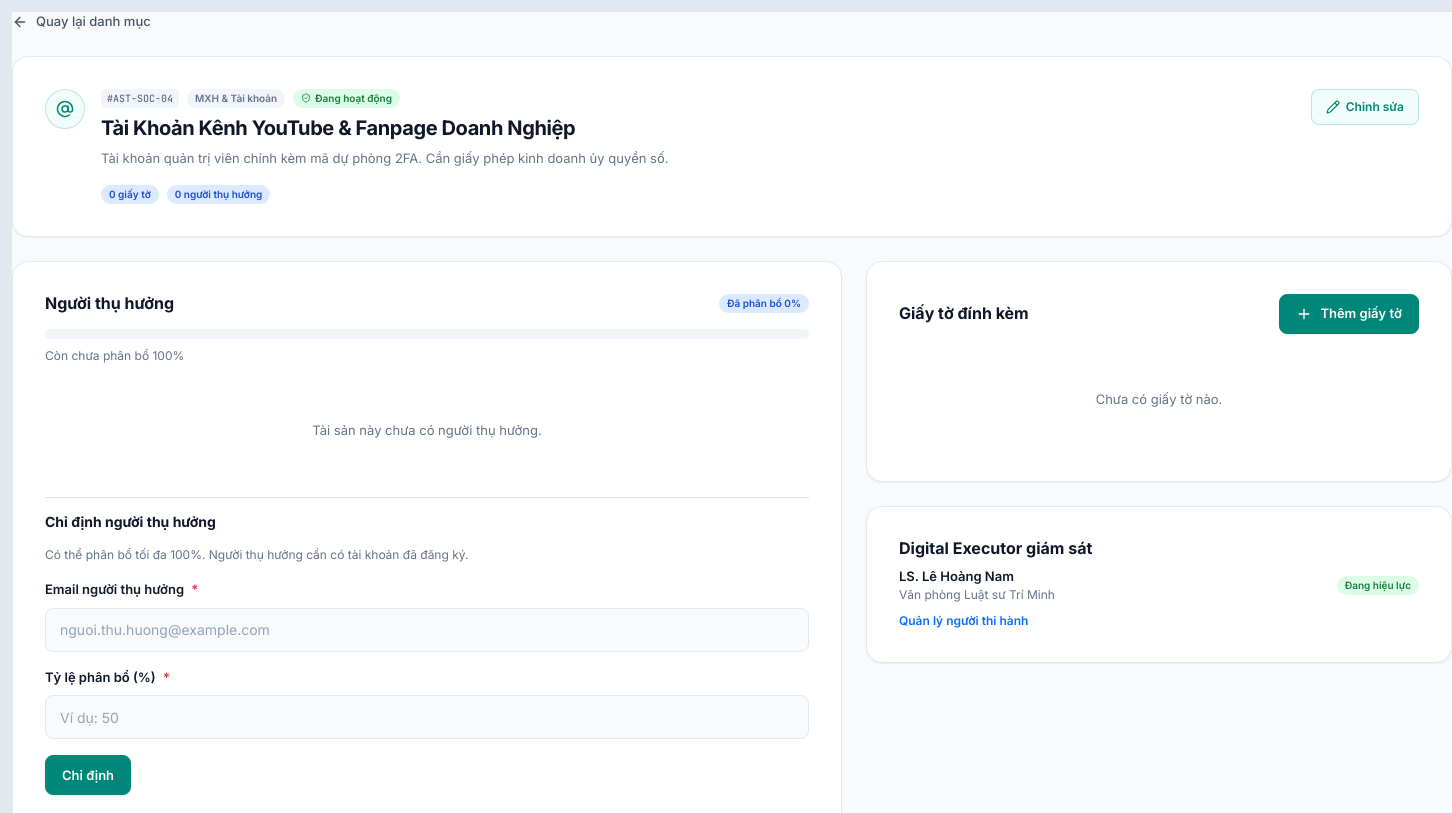
Test: AssetDetailPage assign beneficiary › assign_UnregisteredEmail_ShowsNotFoundError
Type "khong.co@example.com" into the field labelled "Email người thụ hưởng *".
click(427, 630); type("khong.co@example.com")  # box x1=45 y1=608 x2=809 y2=652
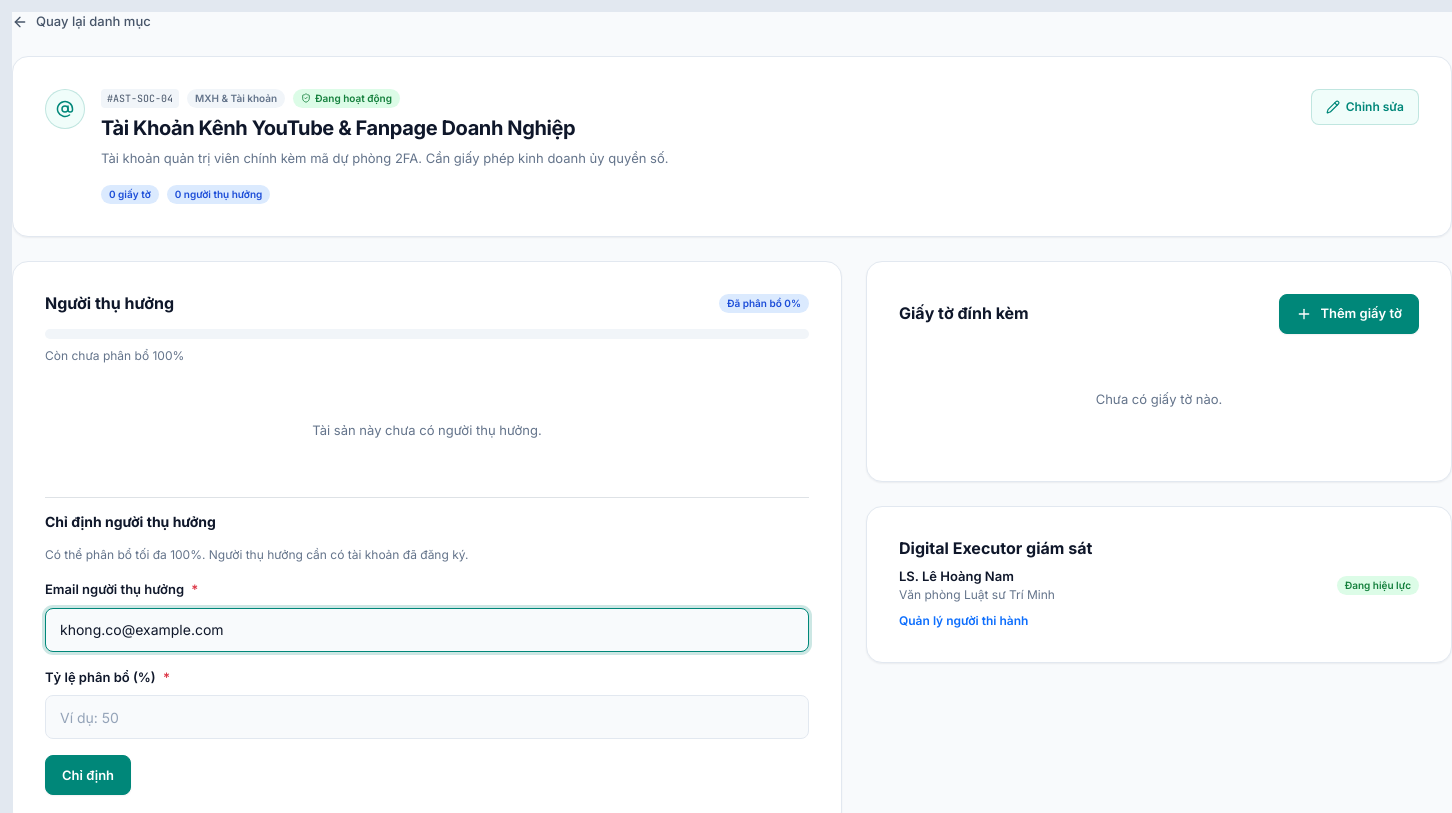
Type "10" into the field labelled "Tỷ lệ phân bổ (%) *".
click(427, 717); type("10")  # box x1=45 y1=695 x2=809 y2=739
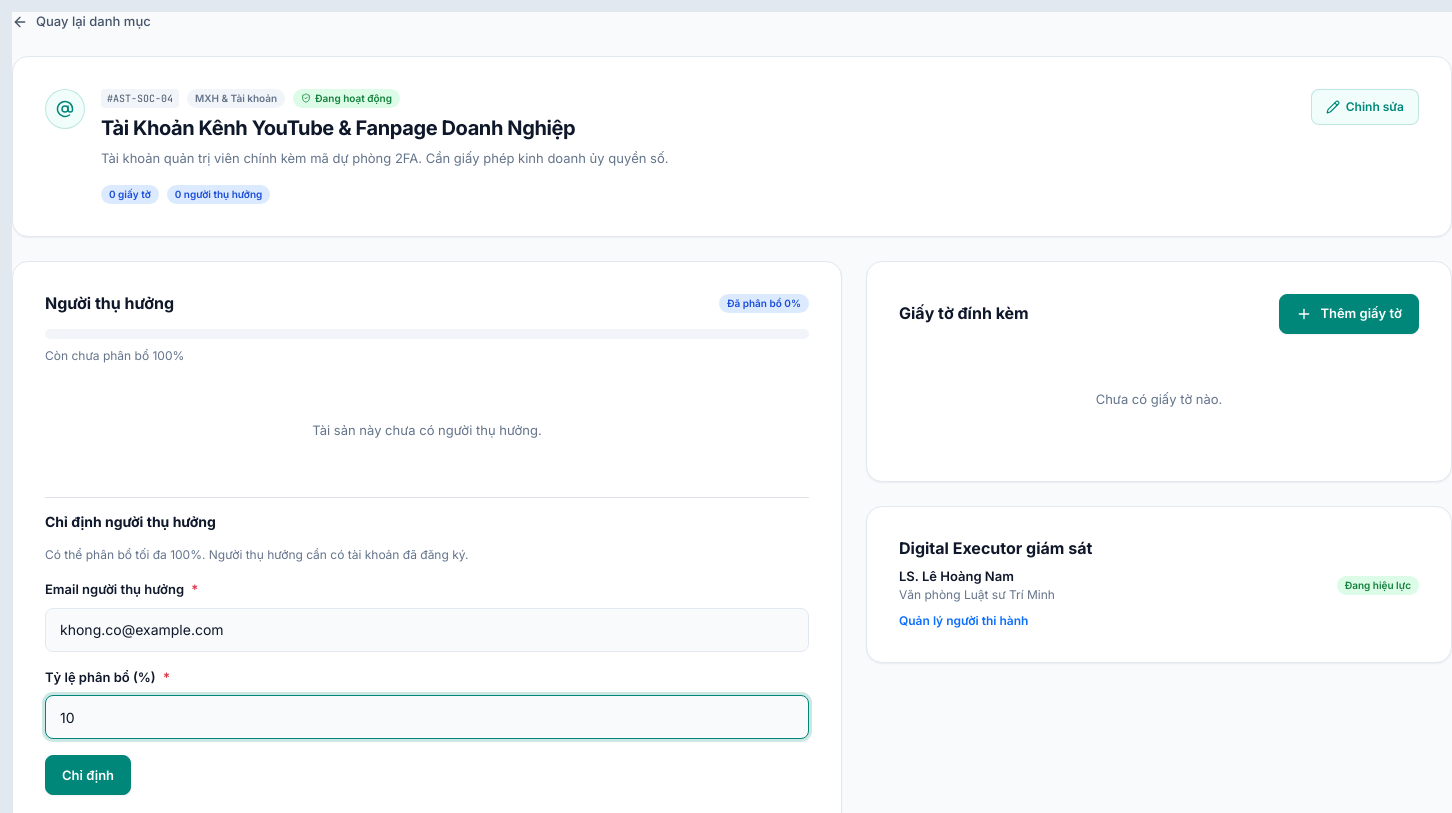
Click the button "Chỉ định".
click(88, 775)  # box x1=45 y1=755 x2=131 y2=795
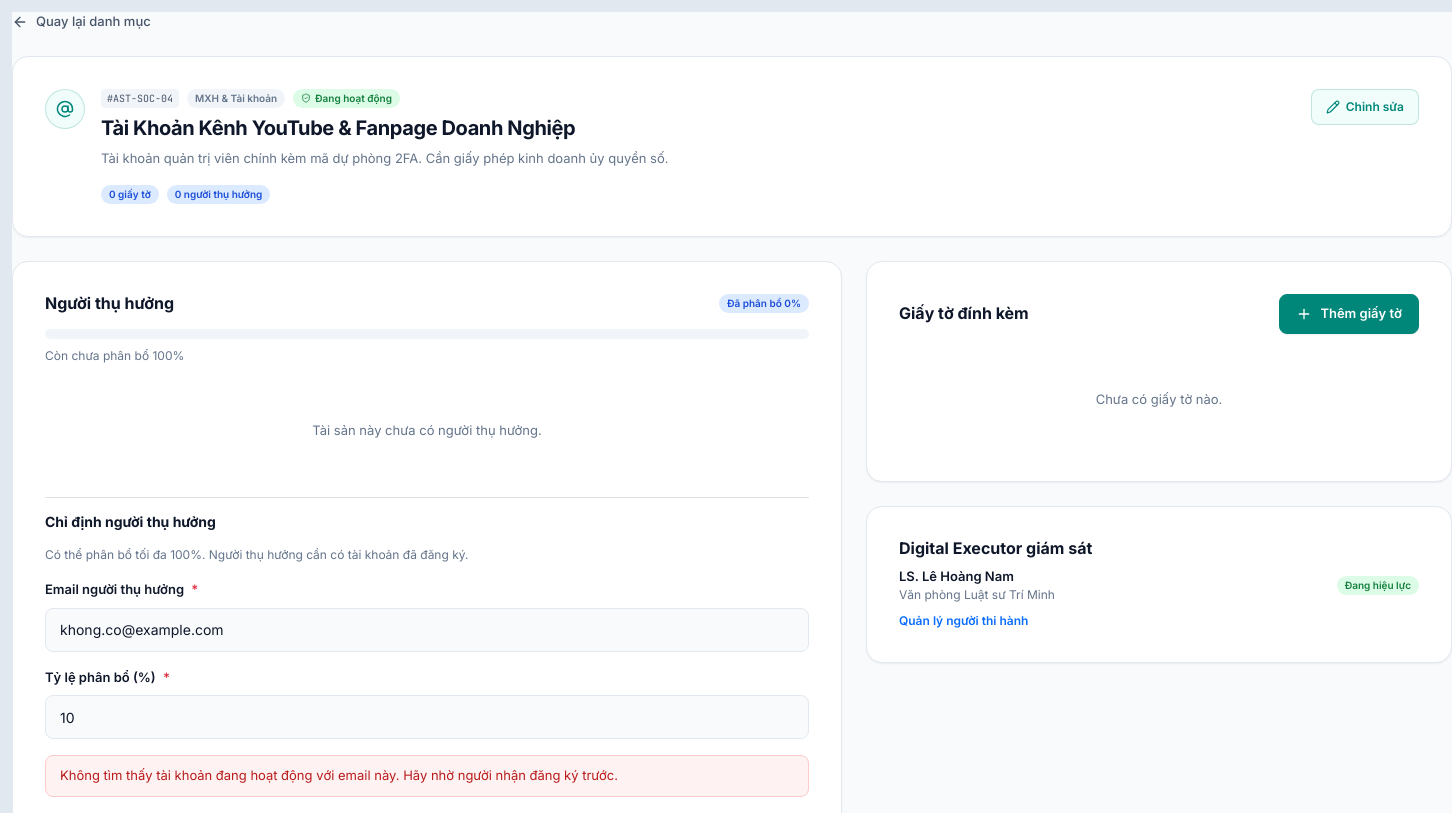
Now the message shows "Không tìm thấy tài khoản đang hoạt động với email này.", box x1=60 y1=767 x2=618 y2=783
